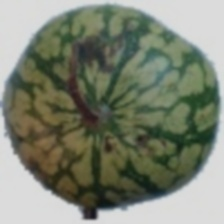watermelon: (6, 25, 181, 190)
